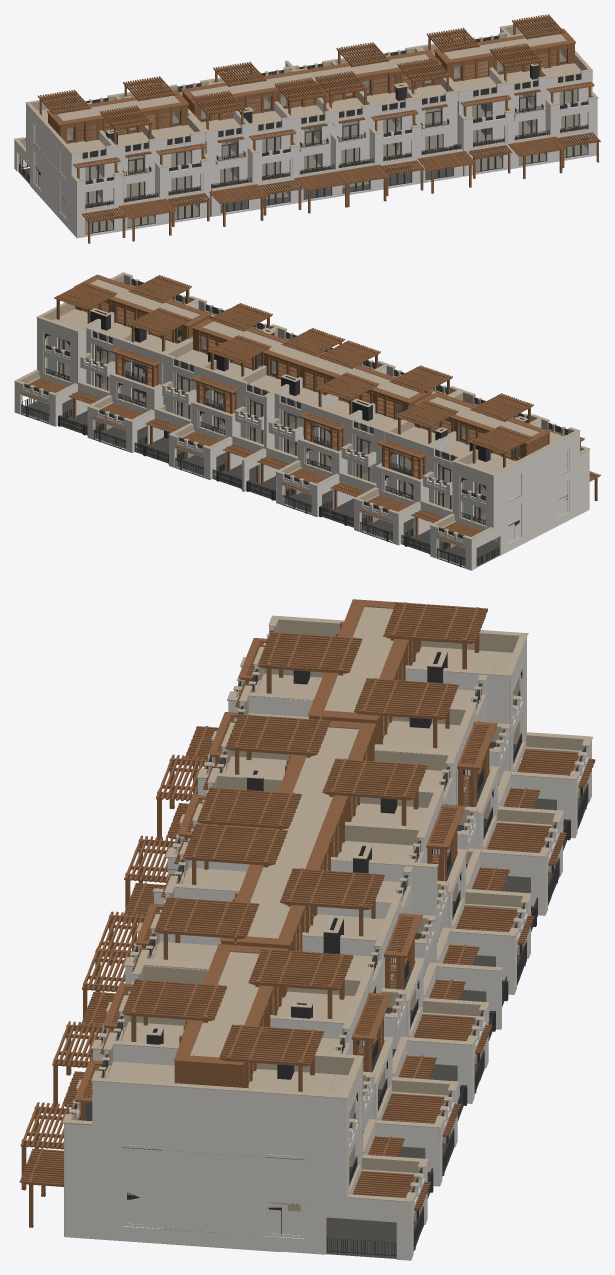
Rendered from Arabian_b7_1_Import3DFiles.glb.
The picture shows the model from 3 angles, top to bottom: view 1: azimuth 30°, elevation 25°; view 2: azimuth 150°, elevation 25°; view 3: azimuth 270°, elevation 25°; orthographic projection. The views are drawn at different scales.
Parts seen in each view (by area): view 1: mesh_material_from_multipatch_3, mesh_material_from_multipatch, mesh_material_from_multipatch_7, mesh_material_from_multipatch_2, mesh_material_from_multipatch_5, mesh_material_from_multipatch_6, mesh_material_from_multipatch_1, mesh_material_from_multipatch_8; view 2: mesh_material_from_multipatch, mesh_material_from_multipatch_3, mesh_material_from_multipatch_2, mesh_material_from_multipatch_7, mesh_material_from_multipatch_6, mesh_material_from_multipatch_8, mesh_material_from_multipatch_5, mesh_material_from_multipatch_1, mesh_material_from_multipatch_4; view 3: mesh_material_from_multipatch_3, mesh_material_from_multipatch, mesh_material_from_multipatch_2, mesh_material_from_multipatch_7, mesh_material_from_multipatch_6, mesh_material_from_multipatch_8, mesh_material_from_multipatch_4.
Boxes of the visible parts, x1,y1,x2,y2 form: mesh_material_from_multipatch_3: [24, 14, 600, 243]; mesh_material_from_multipatch: [14, 28, 597, 237]; mesh_material_from_multipatch_7: [23, 24, 596, 238]; mesh_material_from_multipatch_2: [14, 20, 598, 237]; mesh_material_from_multipatch_5: [67, 49, 587, 234]; mesh_material_from_multipatch_6: [19, 35, 588, 243]; mesh_material_from_multipatch_1: [27, 89, 588, 234]; mesh_material_from_multipatch_8: [18, 168, 463, 216]; mesh_material_from_multipatch: [14, 276, 589, 570]; mesh_material_from_multipatch_3: [20, 274, 600, 547]; mesh_material_from_multipatch_2: [14, 272, 590, 556]; mesh_material_from_multipatch_7: [26, 279, 563, 528]; mesh_material_from_multipatch_6: [22, 278, 597, 565]; mesh_material_from_multipatch_8: [22, 399, 499, 567]; mesh_material_from_multipatch_5: [59, 314, 520, 521]; mesh_material_from_multipatch_1: [26, 338, 485, 567]; mesh_material_from_multipatch_4: [21, 360, 465, 568]; mesh_material_from_multipatch_3: [19, 599, 595, 1227]; mesh_material_from_multipatch: [64, 626, 591, 1260]; mesh_material_from_multipatch_2: [62, 606, 592, 1253]; mesh_material_from_multipatch_7: [20, 607, 581, 1251]; mesh_material_from_multipatch_6: [22, 630, 586, 1256]; mesh_material_from_multipatch_8: [326, 798, 580, 1258]; mesh_material_from_multipatch_4: [374, 771, 588, 1251].
Bounding box in the file's own units: 74.54 × 13.38 × 37.07.
